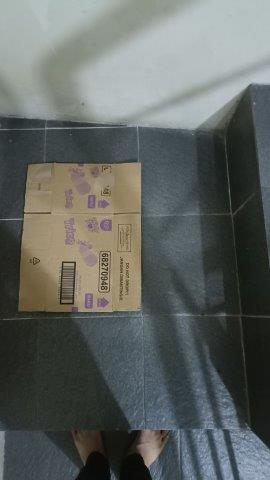kardus: (20, 164, 141, 312)
